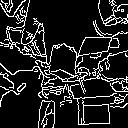cube: (47, 42, 77, 80)
